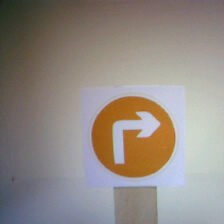right: (77, 84, 182, 190)
